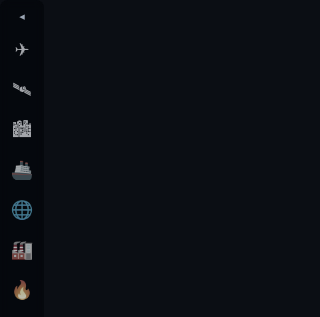
Test: HudLayerRail › hover opens the domain flyout with its layer checkboxes
The width and height of the screenshot is (320, 317).
Step 1. Hover over the menu item named "海洋 Sea" → (22, 168), box [4,150,40,186]
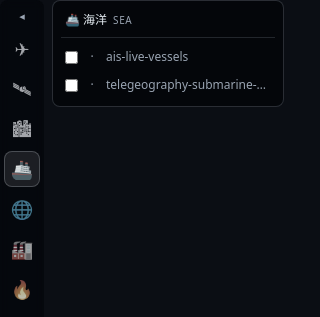
Result: the element with class "hud-rail-flyout" is shown at [52,0,284,107]
Result: the number of checkboxes is 2 at [65,50,78,64]; [65,78,78,92]
